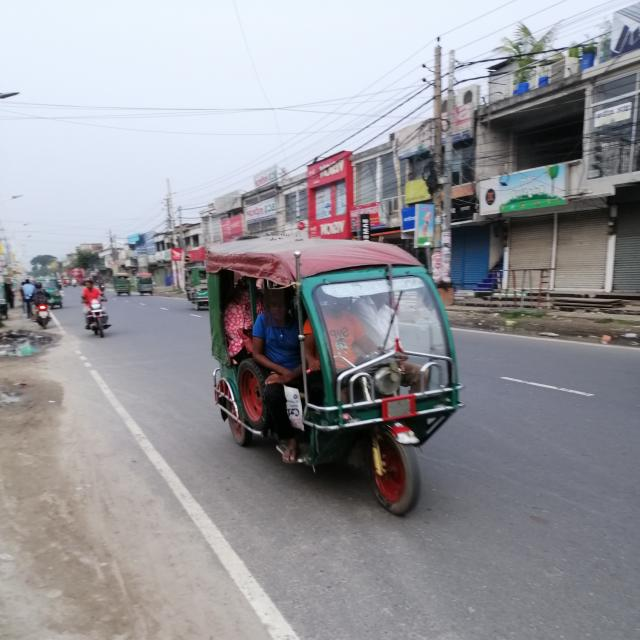CNG: (127, 269, 160, 303)
Easybike: (185, 214, 481, 536)
Motorbike: (71, 298, 125, 355), (31, 290, 59, 335)
